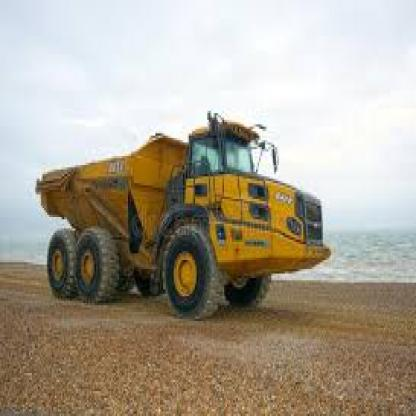dump_truck: (37, 100, 341, 314)
